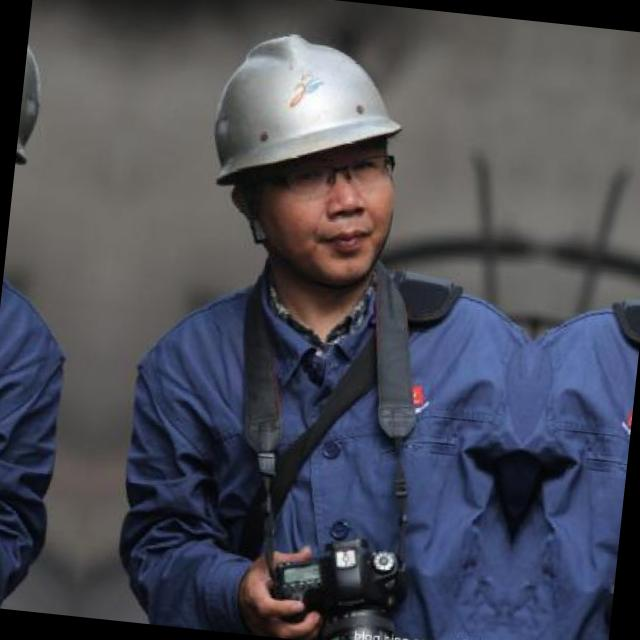helmet: (169, 4, 434, 304), (4, 0, 81, 268)
